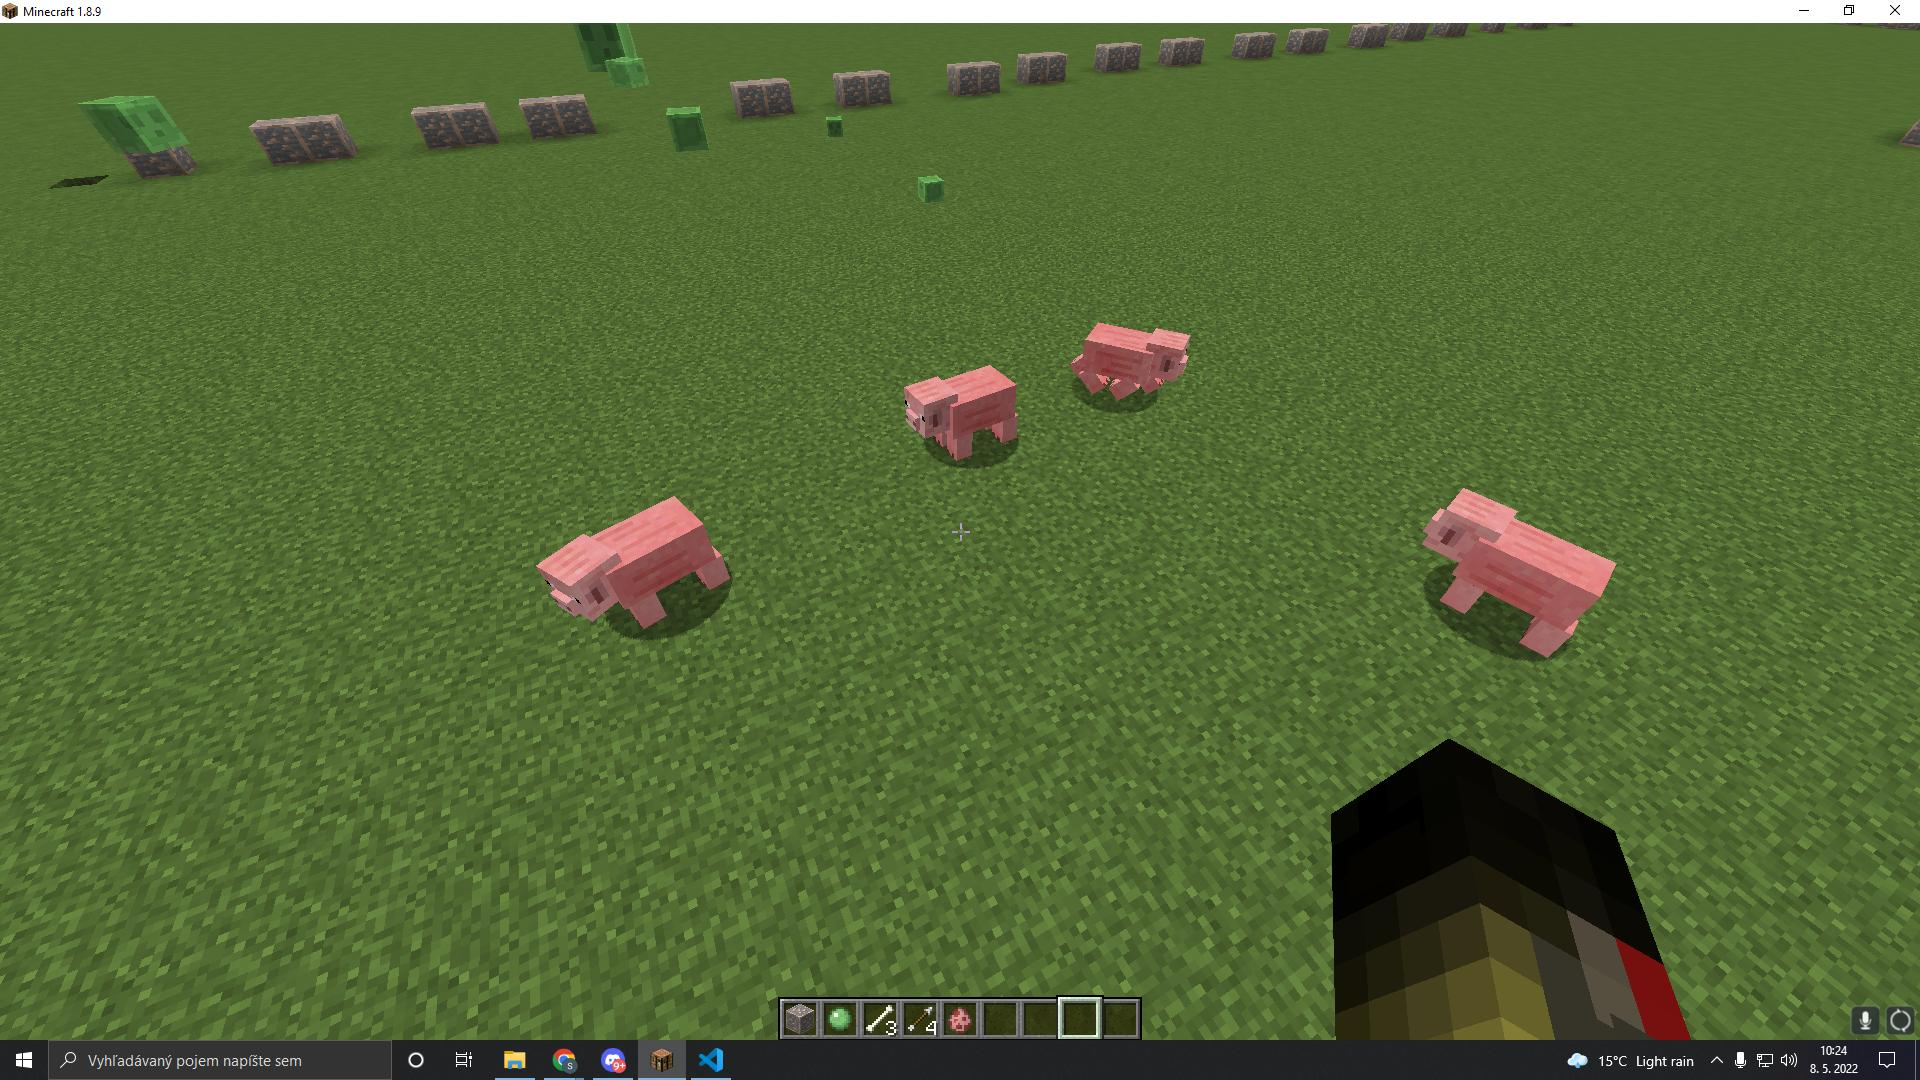pig: (1402, 476, 1631, 675), (526, 487, 758, 650), (887, 359, 1035, 472), (1060, 315, 1209, 415)
